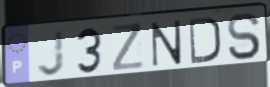3: (75, 26, 103, 76)
D: (187, 15, 223, 66)
J: (35, 29, 67, 79)
N: (150, 18, 184, 69)
S: (226, 11, 263, 62)
Z: (109, 21, 147, 73)
